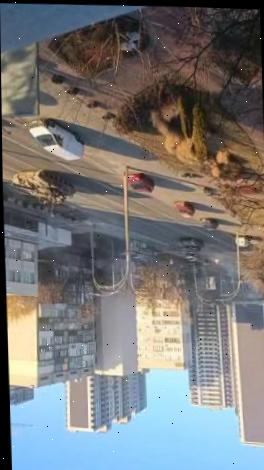car: (126, 172, 155, 194), (172, 199, 195, 217), (198, 216, 218, 230), (185, 253, 198, 260)
tank: (2, 166, 75, 205), (171, 235, 205, 252)
